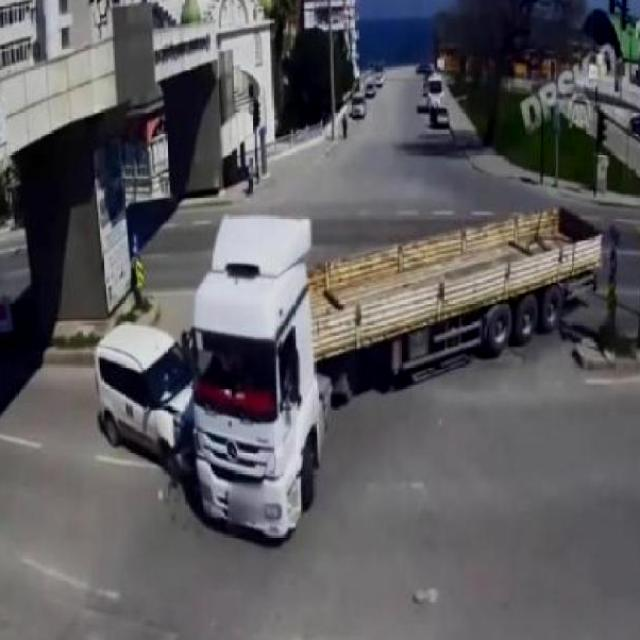accident: (92, 202, 606, 546)
